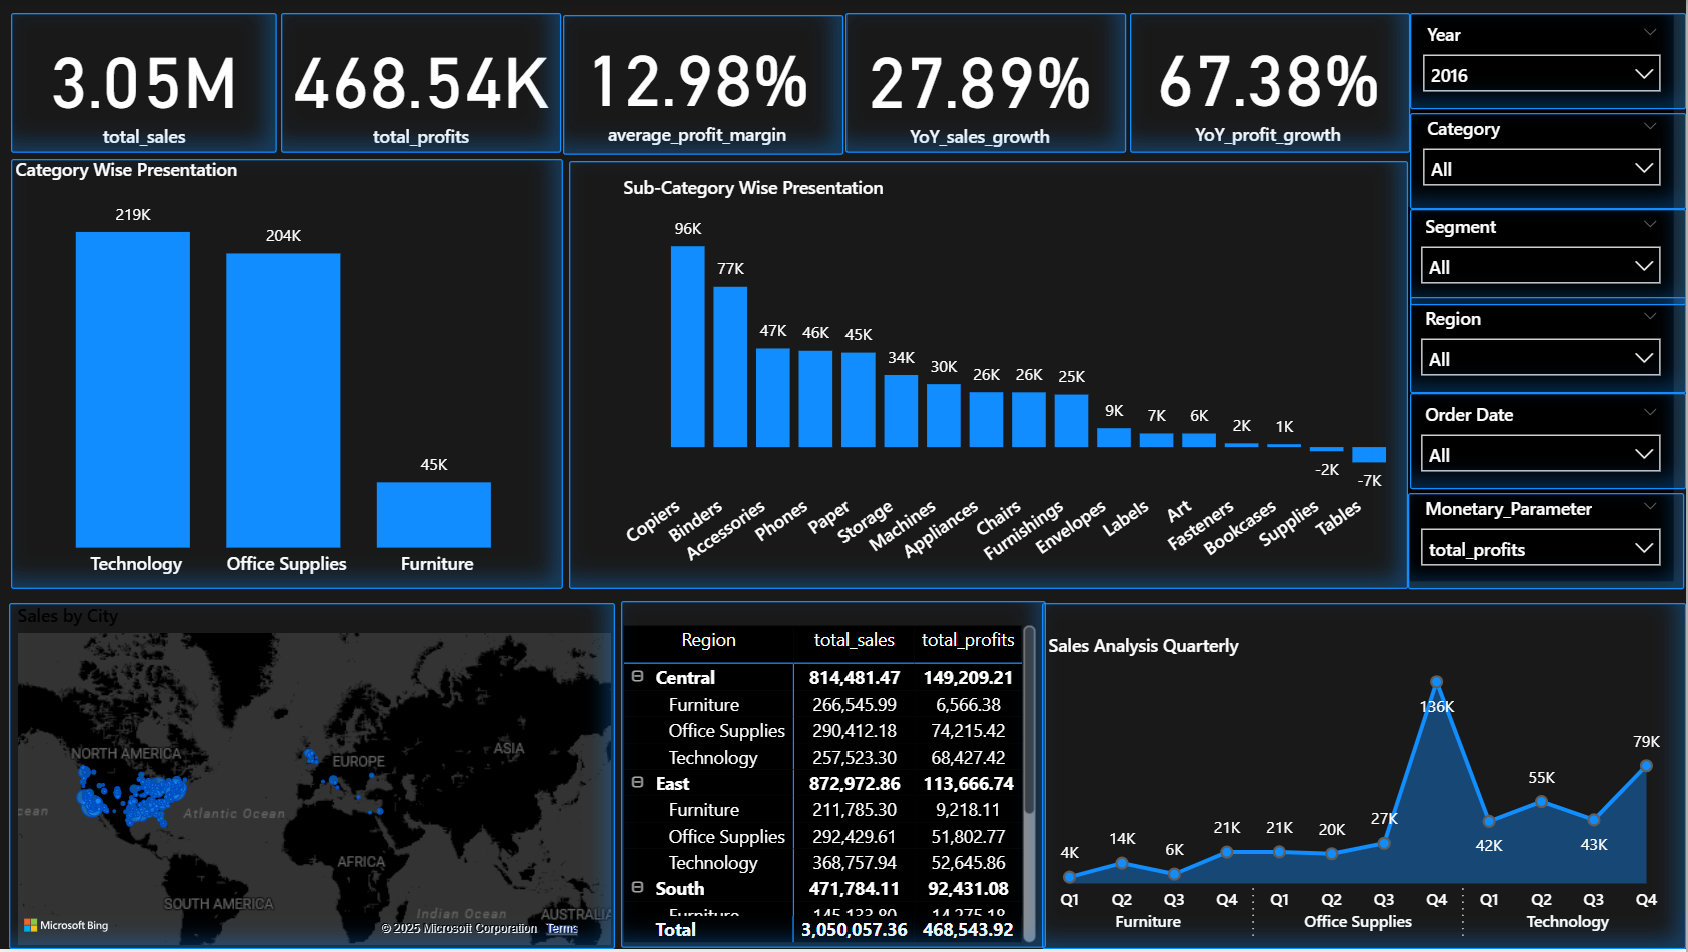

The page's visual inventory and layout, read from the dashboard file:
{"tool":"powerbi","page":{"name":"Dashboard_1","canvas":[1280,720],"ordinal":0},"visuals":[{"type":"card","fields":{"Values":["MeasureTable.total_profit"]},"box":[10.6,12.1,201.7,107.7],"z":0},{"type":"card","fields":{"Values":["MeasureTable.total_profits"]},"box":[218,12.1,206.3,107.7],"z":1000},{"type":"card","fields":{"Values":["MeasureTable.average_profit_margin"]},"box":[430,10.6,203.2,107.7],"z":2000},{"type":"card","fields":{"Values":["MeasureTable.prev_sales"]},"box":[638.9,12.1,212.3,107.7],"z":3000},{"type":"slicer","fields":{"Values":["Calendar.Year"]},"box":[1070.7,12.1,200.2,71.3],"z":4000},{"type":"card","fields":{"Values":["MeasureTable.YoY_profit_growth"]},"box":[856.9,10.6,212.3,107.7],"z":5000},{"type":"slicer","fields":{"Values":["Sample - Superstore.Category"]},"box":[1070.7,83.4,200.2,74.3],"z":6000},{"type":"slicer","fields":{"Values":["Sample - Superstore.Segment"]},"box":[1069.2,157.7,201.7,69.8],"z":7000},{"type":"slicer","fields":{"Values":["Sample - Superstore.Region"]},"box":[1069.2,227.5,201.7,72.8],"z":8000},{"type":"slicer","fields":{"Values":["Sample - Superstore.Order Date.Variation.Date Hierarchy.Month"]},"box":[1069.2,300.3,201.7,71.3],"z":9000},{"type":"clusteredColumnChart","title":"Category Wise Presentation","fields":{"Y":["MeasureTable.total_profits"],"Category":["Sample - Superstore.Category"]},"box":[9.7,119.7,420.9,328.2],"z":10000},{"type":"slicer","fields":{"Values":["Monetary_Parameter.Monetary_Parameter"]},"box":[1069.2,371.6,201.7,69.8],"z":11000},{"type":"clusteredColumnChart","title":"Sub-Category Wise Presentation","fields":{"Y":["MeasureTable.total_profits"],"Category":["Sample - Superstore.Sub-Category"]},"box":[470.1,133.5,600.6,313.9],"z":12000},{"type":"map","title":"Sales by City","fields":{"Category":["Sample - Superstore.City"],"Size":["MeasureTable.total_sales"]},"box":[10.6,458,459.5,263.9],"z":13000},{"type":"pivotTable","fields":{"Values":["MeasureTable.total_sales","MeasureTable.total_profits"],"Rows":["Sample - Superstore.Region","Sample - Superstore.Category"]},"box":[470.1,470.1,321.5,250.2],"z":14000},{"type":"areaChart","title":"Sales Analysis Quarterly","fields":{"Y":["MeasureTable.total_profits"],"Category":["Sample - Superstore.Category","Calendar.Quarter"]},"box":[791.7,480.8,479.2,241.1],"z":15000},{"type":"shape","box":[10.6,10.6,201.7,106.2],"z":16000},{"type":"shape","box":[214.6,10.6,212.3,106.2],"z":17000},{"type":"shape","box":[429.2,12.1,212.3,106.2],"z":18000},{"type":"shape","box":[643.8,10.6,212.3,106.2],"z":19000},{"type":"shape","box":[858.4,10.6,212.3,106.2],"z":20000},{"type":"shape","box":[10.6,121.3,418.6,326.1],"z":21000},{"type":"shape","box":[433.7,122.8,635.5,324.5],"z":22000},{"type":"shape","box":[10.6,458,459.5,262.4],"z":23000},{"type":"shape","box":[473.2,456.9,321.4,263.1],"z":24000},{"type":"shape","box":[791.7,458,488.3,262.4],"z":25000},{"type":"shape","box":[1070.7,10.6,209.3,72.8],"z":26000},{"type":"shape","box":[1070.7,86.4,209.3,72.8],"z":27000},{"type":"shape","box":[1070.7,159.2,209.3,72.8],"z":28000},{"type":"shape","box":[1070.7,226,209.3,72.8],"z":29000},{"type":"shape","box":[1070.7,298.8,209.3,72.8],"z":30000},{"type":"shape","box":[1069.2,374.6,209.3,72.8],"z":31000}]}

Visuals, with their boxes in screenshot pixels (x1, y1, x2, y2), scaled from the page's 1280x720 canvas onto the 1688x952 screenshot:
card - MeasureTable.total_profit: detection(14, 16, 280, 158)
card - MeasureTable.total_profits: detection(287, 16, 560, 158)
card - MeasureTable.average_profit_margin: detection(567, 14, 835, 156)
card - MeasureTable.prev_sales: detection(843, 16, 1123, 158)
slicer - Calendar.Year: detection(1412, 16, 1676, 110)
card - MeasureTable.YoY_profit_growth: detection(1130, 14, 1410, 156)
slicer - Sample - Superstore.Category: detection(1412, 110, 1676, 209)
slicer - Sample - Superstore.Segment: detection(1410, 209, 1676, 301)
slicer - Sample - Superstore.Region: detection(1410, 301, 1676, 397)
slicer - Sample - Superstore.Order Date.Variation.Date Hierarchy.Month: detection(1410, 397, 1676, 491)
"Category Wise Presentation" clusteredColumnChart: detection(13, 158, 568, 592)
slicer - Monetary_Parameter.Monetary_Parameter: detection(1410, 491, 1676, 584)
"Sub-Category Wise Presentation" clusteredColumnChart: detection(620, 177, 1412, 592)
"Sales by City" map: detection(14, 606, 620, 951)
pivotTable - MeasureTable.total_sales x MeasureTable.total_profits: detection(620, 622, 1044, 951)
"Sales Analysis Quarterly" areaChart: detection(1044, 636, 1676, 951)
shape: detection(14, 14, 280, 154)
shape: detection(283, 14, 563, 154)
shape: detection(566, 16, 846, 156)
shape: detection(849, 14, 1129, 154)
shape: detection(1132, 14, 1412, 154)
shape: detection(14, 160, 566, 592)
shape: detection(572, 162, 1410, 591)
shape: detection(14, 606, 620, 951)
shape: detection(624, 604, 1048, 951)
shape: detection(1044, 606, 1687, 951)
shape: detection(1412, 14, 1687, 110)
shape: detection(1412, 114, 1687, 210)
shape: detection(1412, 210, 1687, 307)
shape: detection(1412, 299, 1687, 395)
shape: detection(1412, 395, 1687, 491)
shape: detection(1410, 495, 1686, 592)
